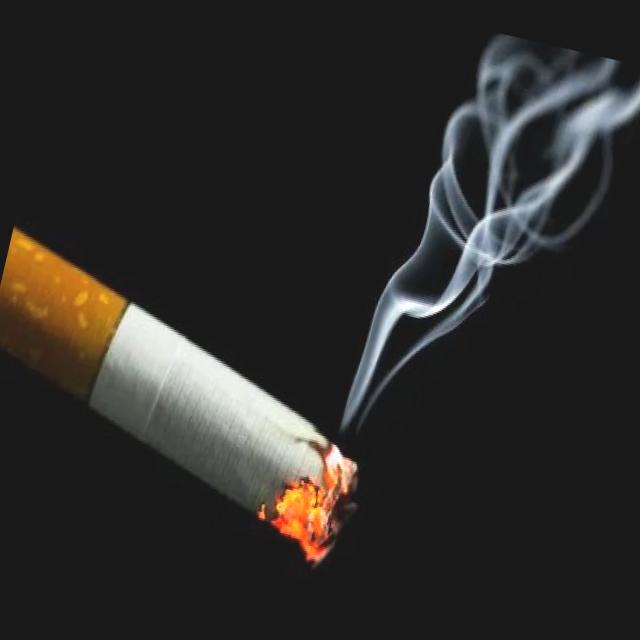smoke: (0, 215, 405, 578)
